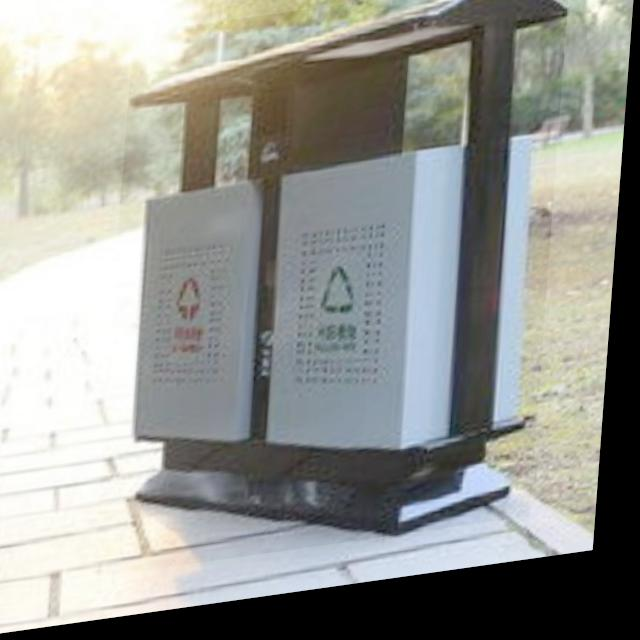garbage_bin: (102, 0, 571, 582)
